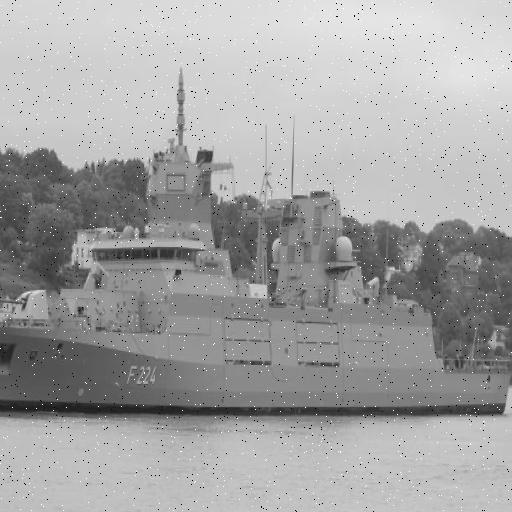Fragata: (1, 62, 512, 422)
